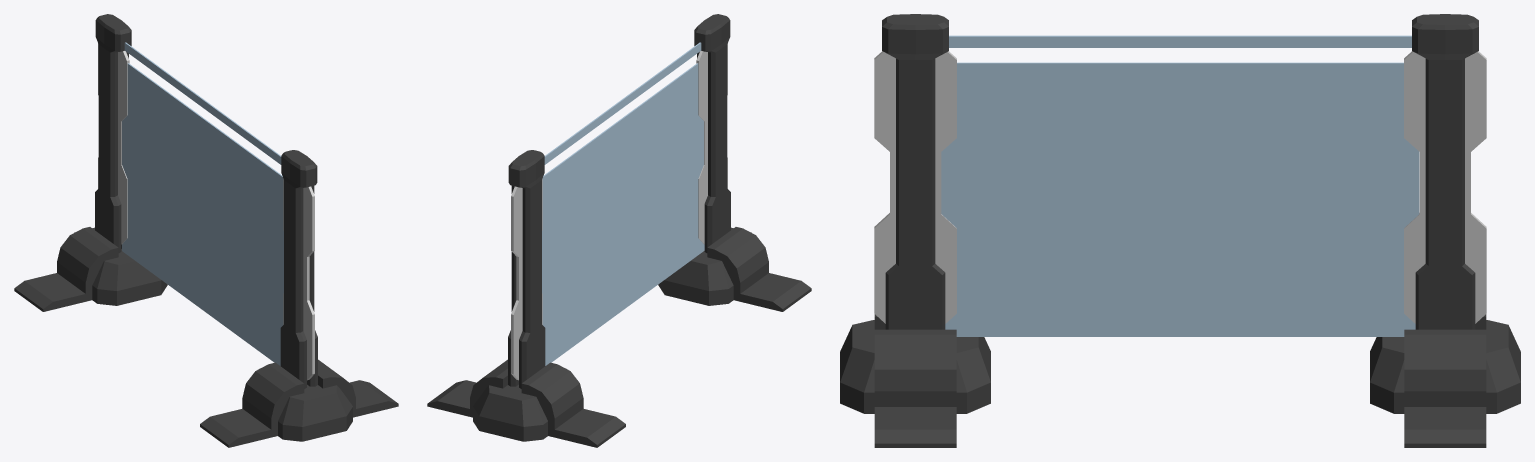
File: PlasmaWall.fbx
3 renders of one model, left to right at view 1: azimuth 30°, elevation 25°; view 2: azimuth 150°, elevation 25°; view 3: azimuth 270°, elevation 25°, orthographic. The views are drawn at different scales.
Parts seen in each view (by area): view 1: PlasmaWall, Cube.005, Cube.006, Cube.002, Cube.001, Cube.004, Cube, Cube.007, Cube.003; view 2: PlasmaWall, Cube.001, Cube.002, Cube.006, Cube.005, Cube, Cube.004, Cube.003, Cube.007; view 3: PlasmaWall, Cube.002, Cube.006, Cube.001, Cube.005, Cube.003, Cube.007, Cube, Cube.004.
Part boxes in pixels (<box>): PlasmaWall: <box>122,42,283,365</box>; Cube.005: <box>200,359,398,447</box>; Cube.006: <box>280,150,317,388</box>; Cube.002: <box>95,14,131,252</box>; Cube.001: <box>14,227,118,311</box>; Cube.004: <box>278,384,352,441</box>; Cube: <box>74,227,167,305</box>; Cube.007: <box>283,178,314,380</box>; Cube.003: <box>98,43,129,244</box>; PlasmaWall: <box>542,42,704,365</box>; Cube.001: <box>427,359,625,447</box>; Cube.002: <box>508,150,545,388</box>; Cube.006: <box>694,14,730,252</box>; Cube.005: <box>707,227,811,311</box>; Cube: <box>473,384,547,441</box>; Cube.004: <box>658,227,751,305</box>; Cube.003: <box>511,178,542,380</box>; Cube.007: <box>696,43,727,244</box>; PlasmaWall: <box>941,35,1419,336</box>; Cube.002: <box>1412,14,1478,329</box>; Cube.006: <box>882,14,948,329</box>; Cube.001: <box>1404,314,1486,447</box>; Cube.005: <box>874,314,956,447</box>; Cube.003: <box>1404,51,1486,323</box>; Cube.007: <box>874,51,956,323</box>; Cube: <box>1370,320,1520,413</box>; Cube.004: <box>840,320,990,413</box>.
Size of the model in its own units: 6.82 by 9.93 by 16.58.
